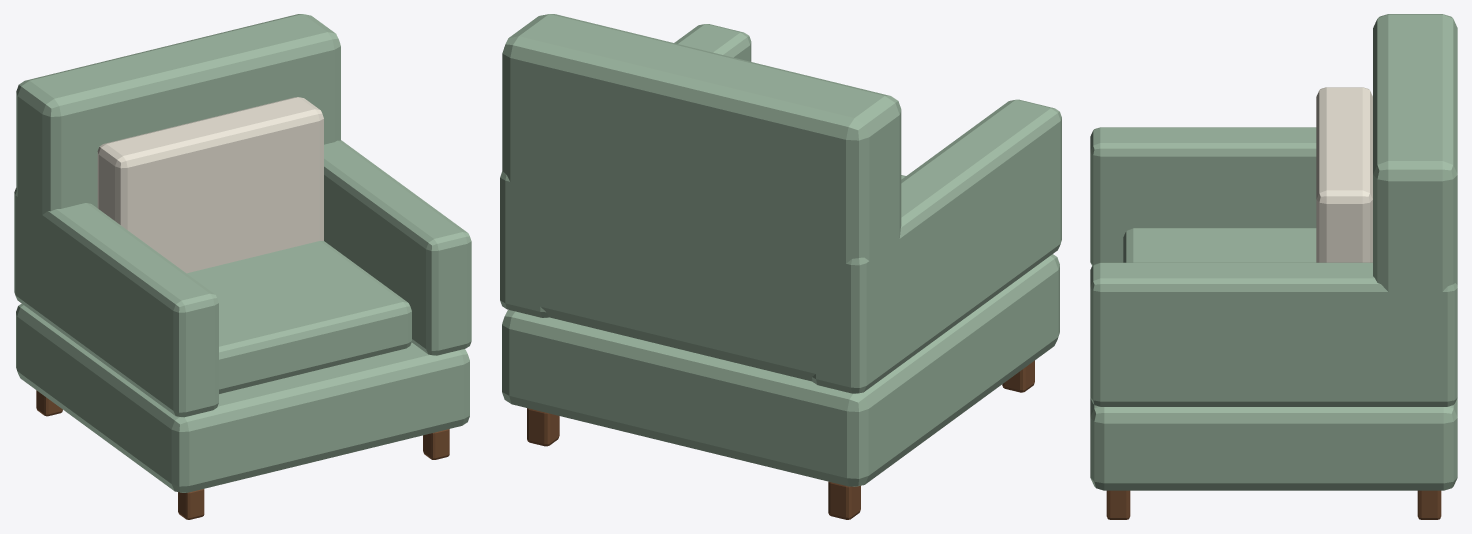
File: armchair.glb
3 renders of one model, left to right at view 1: azimuth 30°, elevation 25°; view 2: azimuth 150°, elevation 25°; view 3: azimuth 270°, elevation 25°, orthographic. The views are drawn at different scales.
Parts seen in each view (by area): view 1: Armchair_Base, Armchair_Backrest, Armchair_Back_Cushion, Armchair_Arm, Armchair_Seat, Armchair_Arm.001, Armchair_Foot, Armchair_Foot.002; view 2: Armchair_Backrest, Armchair_Base, Armchair_Arm, Armchair_Arm.001, Armchair_Foot.001, Armchair_Foot.003; view 3: Armchair_Arm.001, Armchair_Base, Armchair_Backrest, Armchair_Arm, Armchair_Back_Cushion, Armchair_Seat, Armchair_Foot.002, Armchair_Foot.003.
Part boxes in pixels (box(x1,y1,x2,y2)): Armchair_Base: box(16, 303, 469, 492); Armchair_Backrest: box(16, 14, 340, 310); Armchair_Back_Cushion: box(97, 97, 323, 273); Armchair_Arm: box(14, 188, 218, 417); Armchair_Seat: box(187, 241, 411, 393); Armchair_Arm.001: box(324, 140, 471, 355); Armchair_Foot: box(178, 489, 204, 519); Armchair_Foot.002: box(423, 429, 449, 459); Armchair_Backrest: box(502, 14, 901, 381); Armchair_Base: box(502, 254, 1059, 486); Armchair_Arm: box(812, 99, 1061, 393); Armchair_Arm.001: box(500, 24, 751, 317); Armchair_Foot.001: box(828, 482, 860, 519); Armchair_Foot.003: box(527, 408, 559, 446); Armchair_Arm.001: box(1090, 262, 1457, 406); Armchair_Base: box(1090, 266, 1457, 490); Armchair_Backrest: box(1373, 14, 1457, 396); Armchair_Arm: box(1090, 127, 1316, 266); Armchair_Back_Cushion: box(1316, 87, 1372, 262); Armchair_Seat: box(1123, 228, 1316, 262); Armchair_Foot.002: box(1106, 490, 1130, 519); Armchair_Foot.003: box(1417, 490, 1441, 519).
Size of the model in its own units: 0.8 by 0.85 by 0.78.
